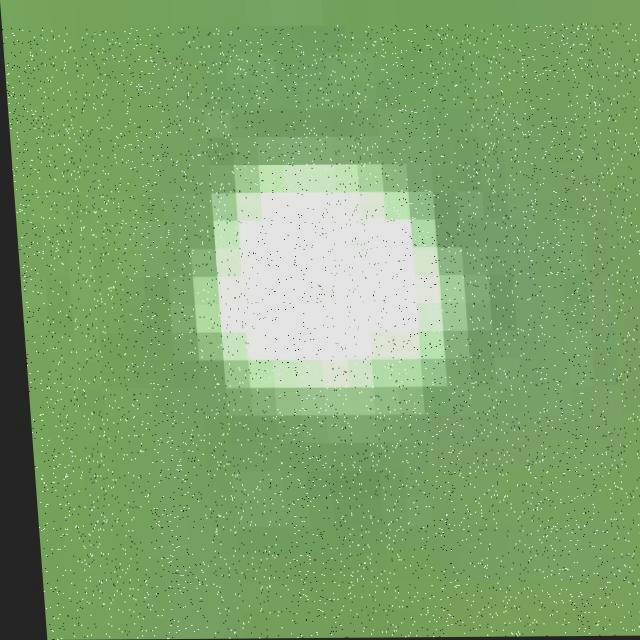ballon: (2, 24, 640, 640)
